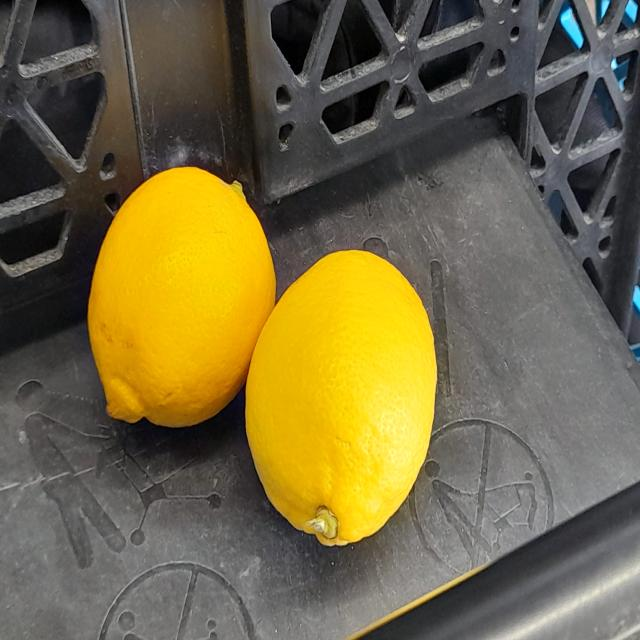lemon: (234, 220, 447, 559), (79, 149, 278, 447)
